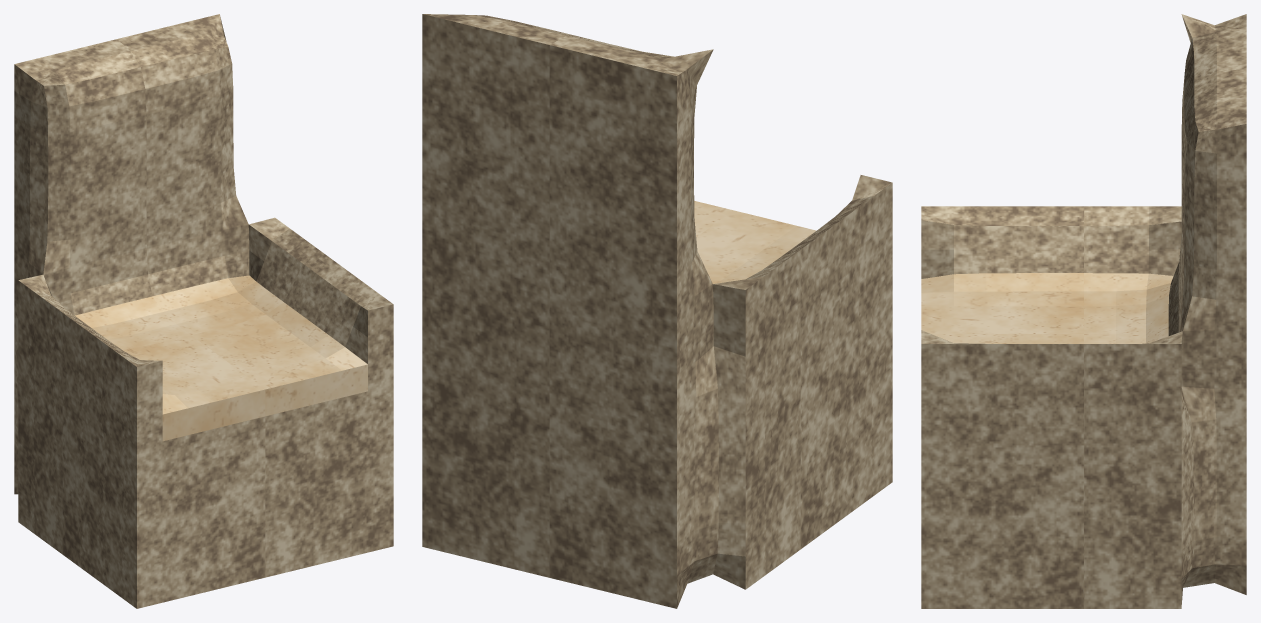
Rendered from stone_chair.glb.
The picture shows the model from 3 angles, left to right: view 1: azimuth 30°, elevation 25°; view 2: azimuth 150°, elevation 25°; view 3: azimuth 270°, elevation 25°; orthographic projection. The views are drawn at different scales.
Visible parts, largest first — view 1: crypt_stone_chair; view 2: crypt_stone_chair; view 3: crypt_stone_chair.
Boxes of the visible parts, x1,y1,x2,y2 form: crypt_stone_chair: (14,14,393,608); crypt_stone_chair: (422,14,892,608); crypt_stone_chair: (921,14,1246,608).
Bounding box in the file's own units: 0.625 × 1 × 0.625.
1 material, 1 textured.
